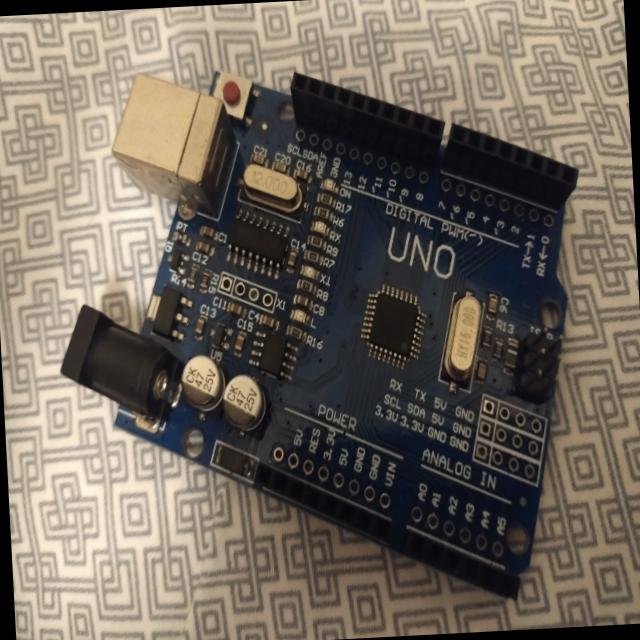arduino: (36, 29, 607, 630)
